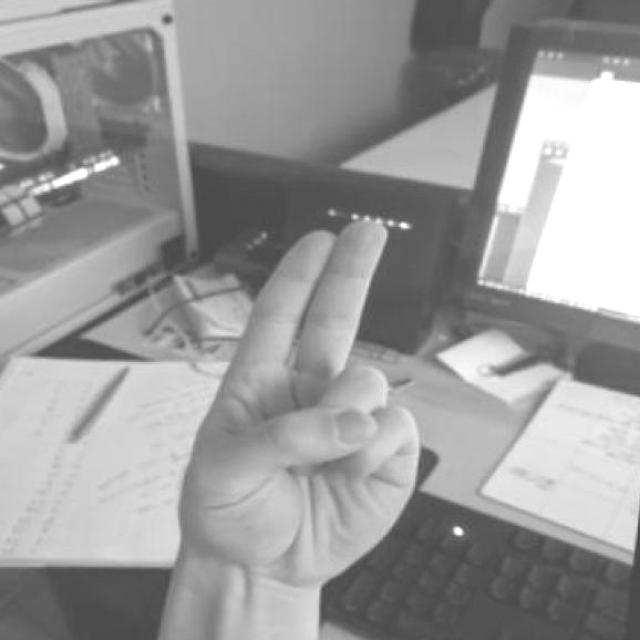U: (163, 215, 437, 640)
